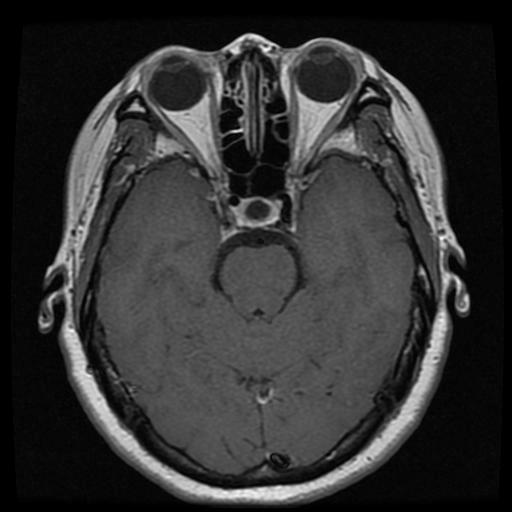Tumour-Pituitary: (214, 187, 303, 240)
